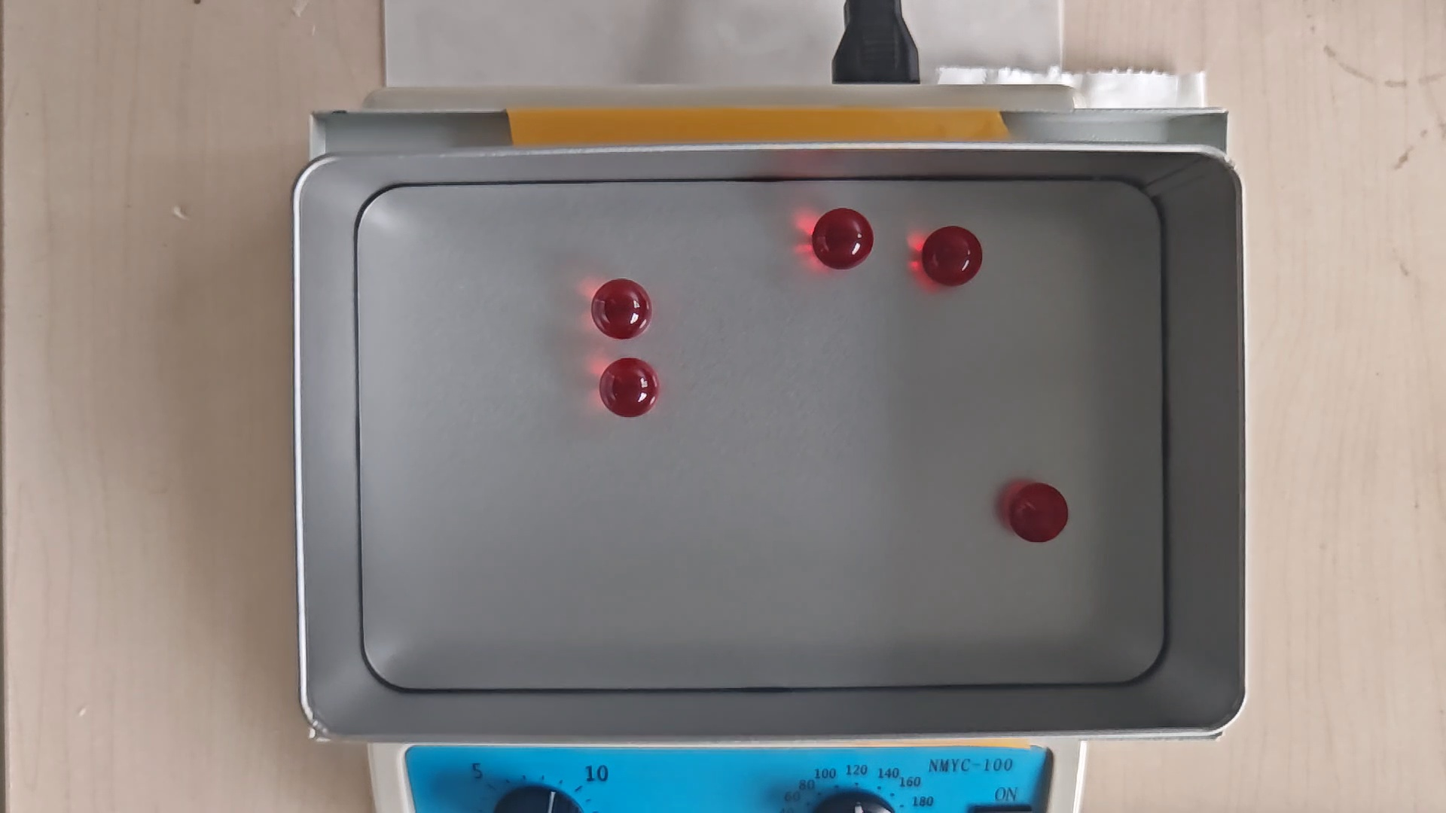ball: (923, 223, 984, 289), (596, 355, 659, 418), (1009, 479, 1070, 544), (814, 206, 875, 270), (591, 280, 651, 338)
container: (352, 177, 1169, 691)
